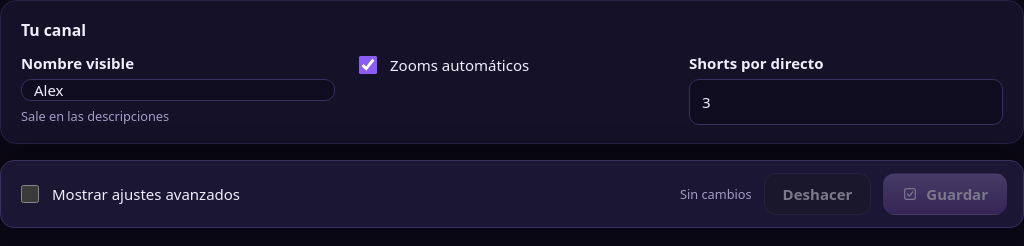
Test case: ajustes por esquema › genera el formulario y guarda solo lo cambiado
Check: the text "Sin cambios" is shown, box [680,185,752,203]
Replace the text in the field labelled "Nombre visible" with "Alex Juega" at (178, 90), box [21,79,335,101]
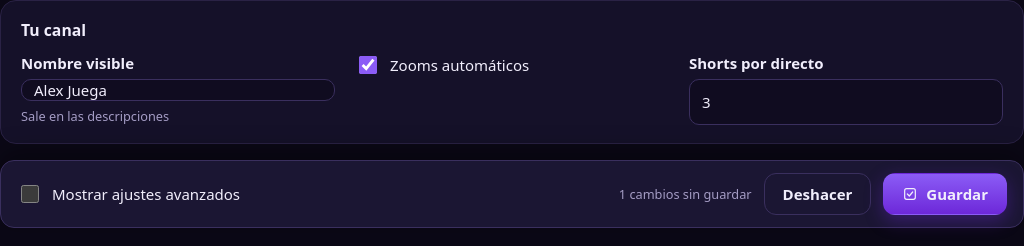
Check: the text "1 cambios sin guardar" is shown, box [619,185,752,203]
Replace the text in the number field labelled "Shorts por directo" with "9" at (846, 102), box [689,79,1003,125]
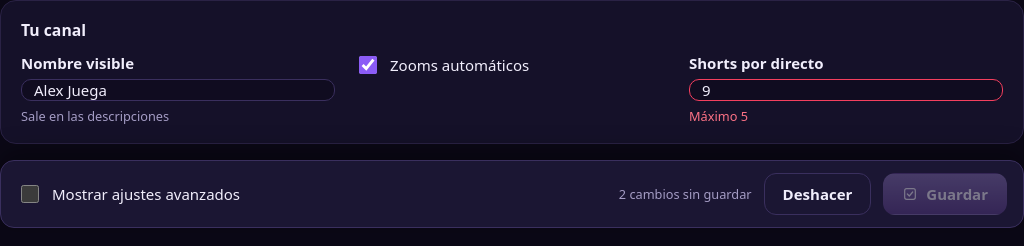
Check: the text "Máximo 5" is shown, box [689,107,748,125]
Check: the button "Guardar" is disabled, box [883,173,1007,215]
